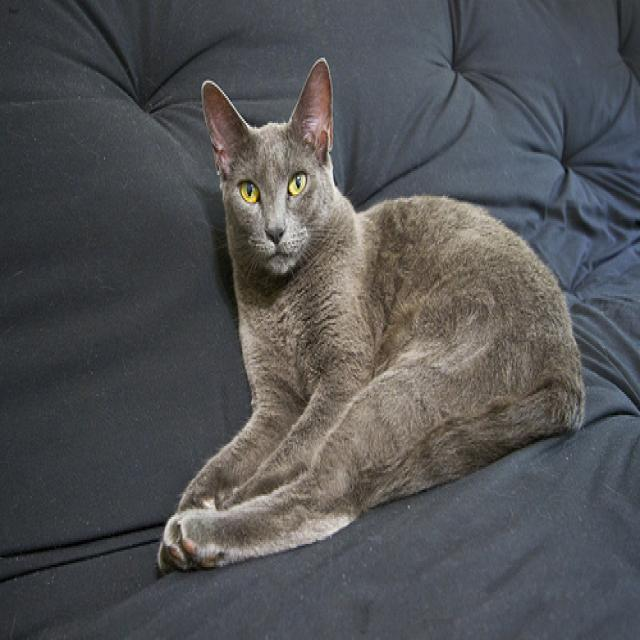Russian_Blue: (202, 51, 341, 274)
